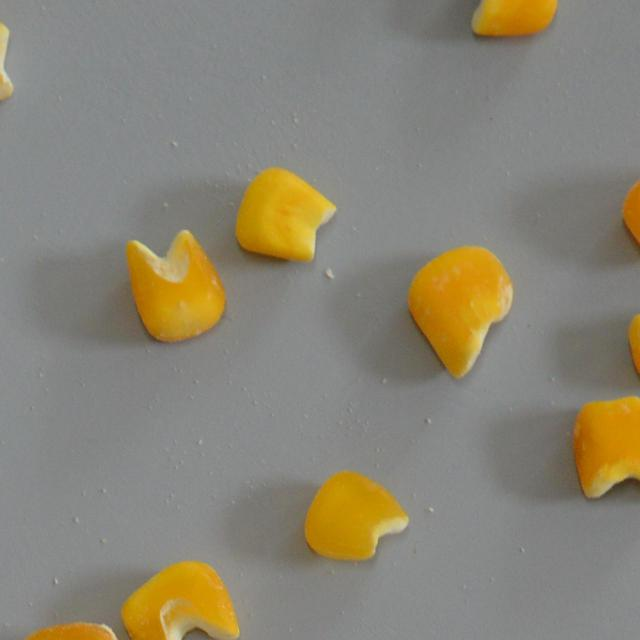no_canjicado: (405, 244, 515, 382), (123, 228, 226, 342), (302, 466, 410, 564), (232, 166, 338, 262), (119, 558, 242, 640), (626, 302, 640, 390)
pelicula: (570, 393, 640, 500), (618, 154, 640, 265), (12, 620, 128, 640), (0, 10, 18, 112)
